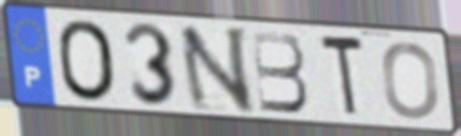3: (122, 20, 179, 109)
B: (248, 29, 312, 115)
N: (175, 25, 257, 115)
O: (54, 17, 121, 105), (379, 40, 442, 122)
T: (317, 32, 367, 121)
